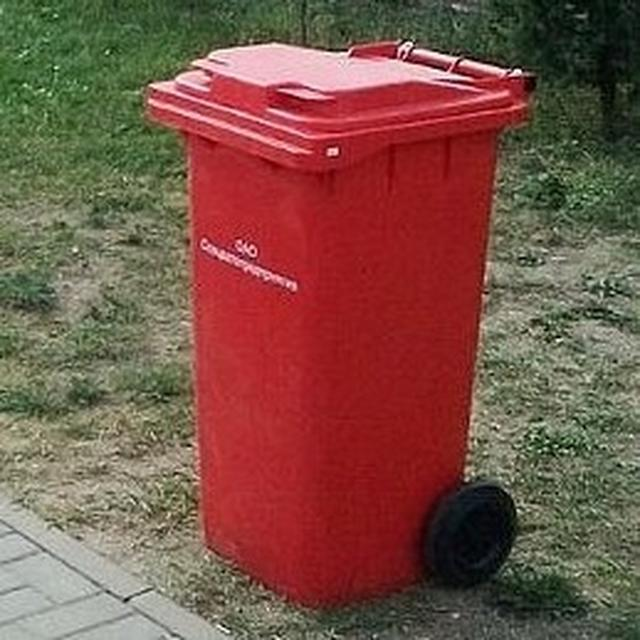Trash_Can_Closed: (147, 41, 534, 605)
